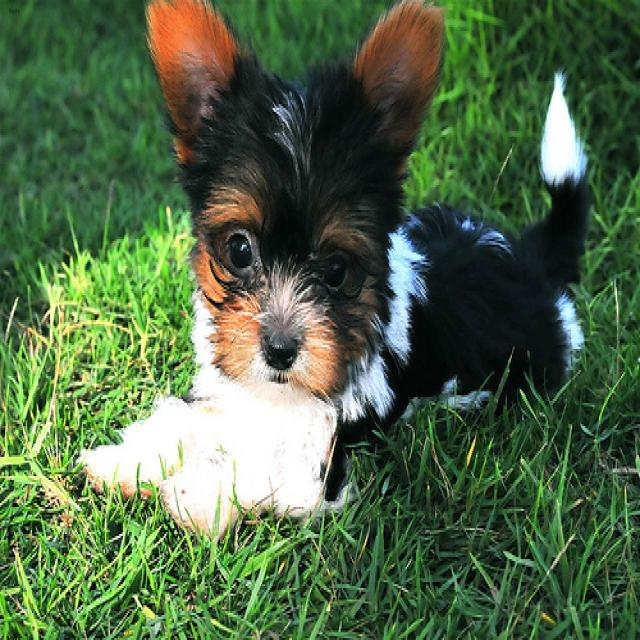dog-yorkshire_terrier: (69, 2, 603, 546)
